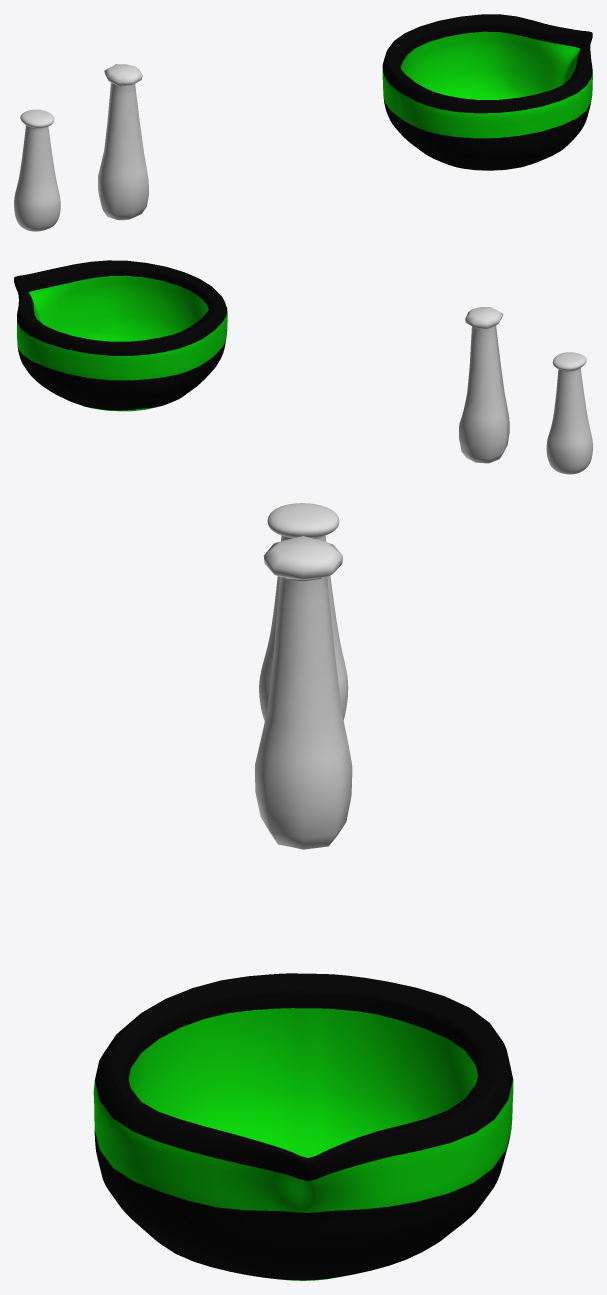
The picture shows the model from 3 angles, top to bottom: view 1: azimuth 30°, elevation 25°; view 2: azimuth 150°, elevation 25°; view 3: azimuth 270°, elevation 25°; orthographic projection. The views are drawn at different scales.
Parts seen in each view (by area): view 1: pCube4, pCube2, pCube1; view 2: pCube4, pCube2, pCube1; view 3: pCube4, pCube2, pCube1.
Part boxes in pixels (x1,y1,x2,y2): pCube4: [382, 14, 592, 170]; pCube2: [98, 64, 148, 220]; pCube1: [14, 109, 60, 231]; pCube4: [14, 260, 227, 411]; pCube2: [459, 307, 509, 463]; pCube1: [546, 352, 592, 474]; pCube4: [93, 973, 513, 1280]; pCube2: [255, 536, 352, 849]; pCube1: [259, 503, 348, 721].
Size of the model in its own units: 28.38 by 8.28 by 8.98.
